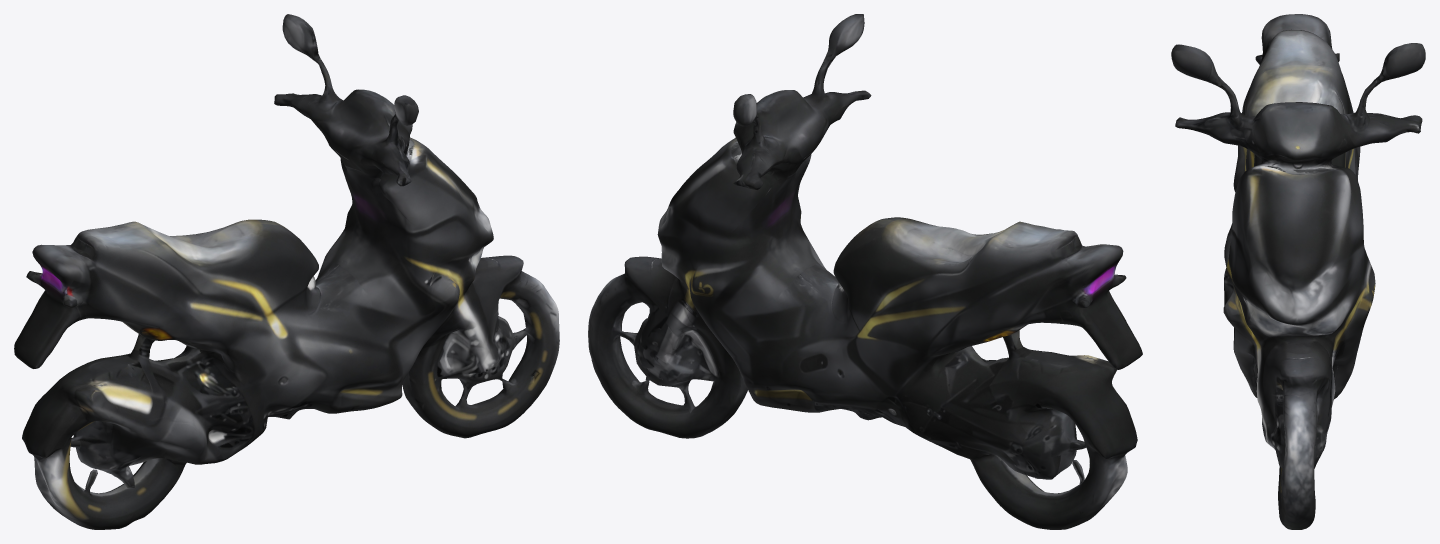
The model's file is bike.glb.
The picture shows the model from 3 angles, left to right: view 1: azimuth 30°, elevation 25°; view 2: azimuth 150°, elevation 25°; view 3: azimuth 270°, elevation 25°; orthographic projection.
Parts seen in each view (by area): view 1: mesh1; view 2: mesh1; view 3: mesh1.
Part boxes in pixels (x1,y1,x2,y2): mesh1: (14,14,559,529); mesh1: (588,14,1142,529); mesh1: (1171,14,1425,529).
Bounding box in the file's own units: 0.3657 × 0.266 × 0.1483.
1 material, 1 textured.
